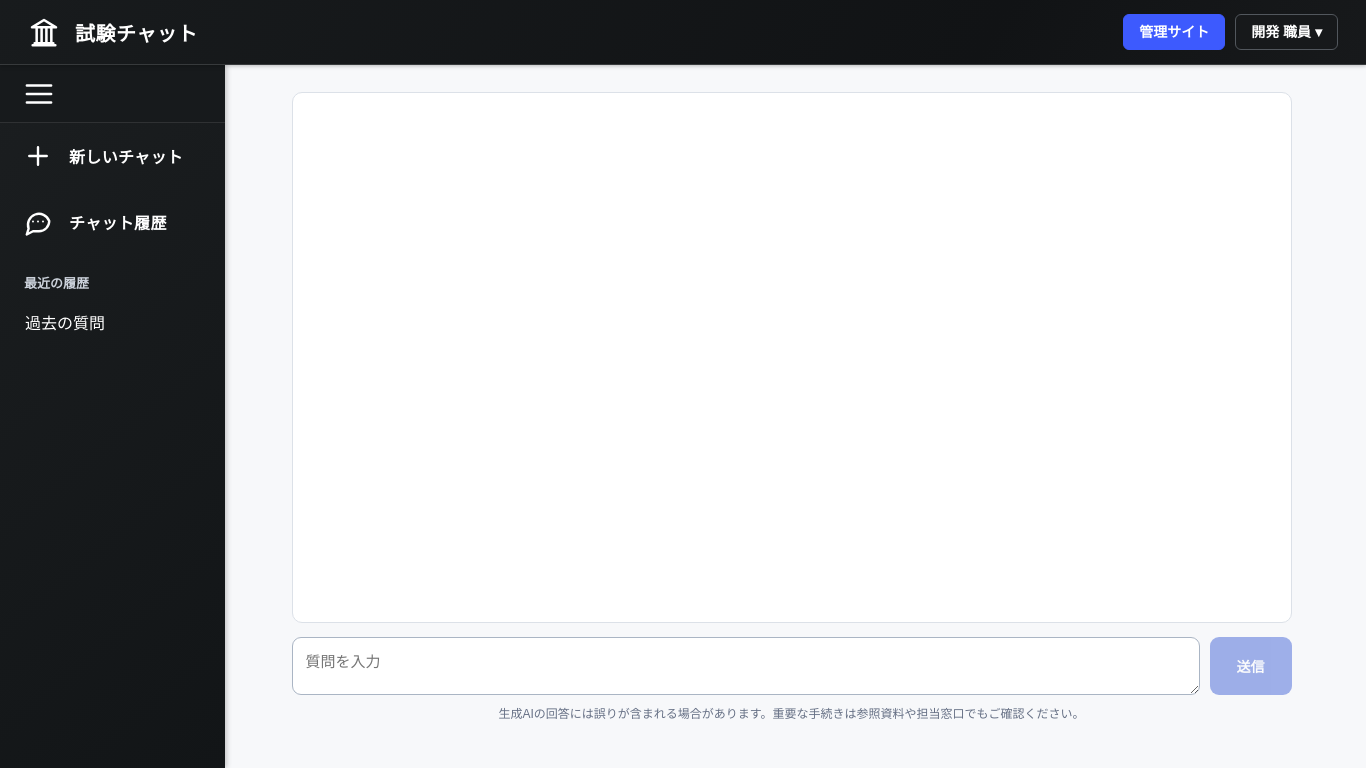
Test: CB-101 チャットUI › 左メニュー、履歴、日時を表示し、Good理由をポップアップからDB APIへ送る
The width and height of the screenshot is (1366, 768).
Check: the button named "サイドメニューを閉じる" is shown, box x1=0 y1=65 x2=225 y2=123
Check: the button "新しいチャット" is shown, box x1=0 y1=123 x2=225 y2=189
Type "申請期限は？" into the text box labelled "質問" at (746, 666), box x1=292 y1=637 x2=1200 y2=695
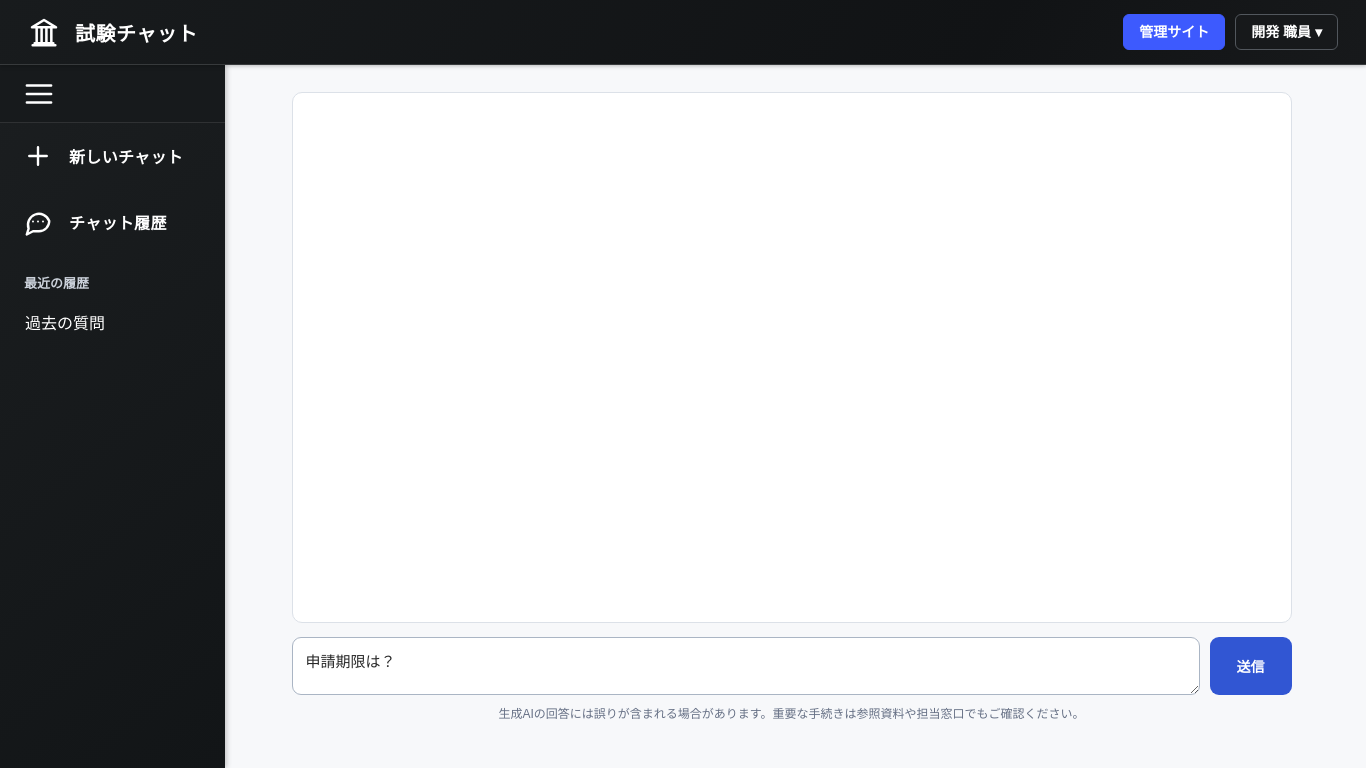
Click the button "送信" at (1250, 666), box x1=1210 y1=637 x2=1292 y2=695
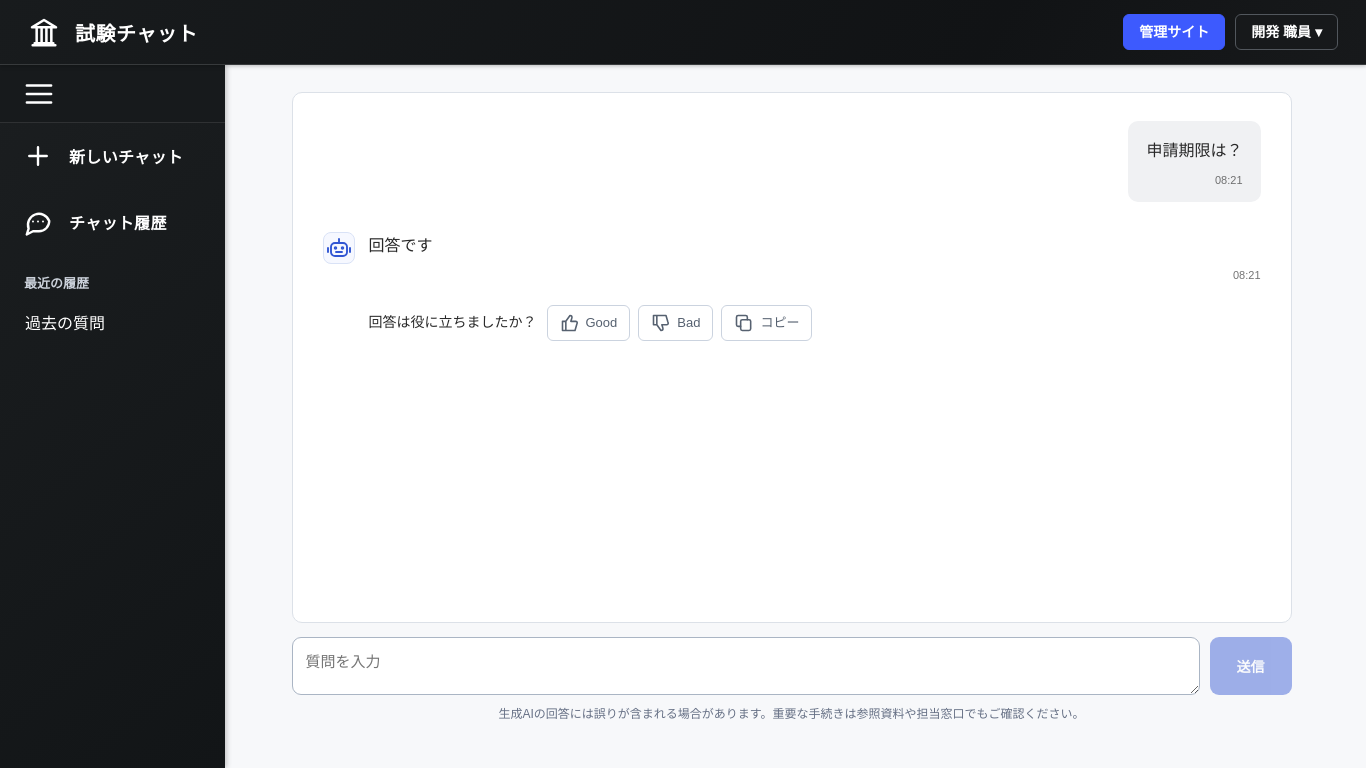
Check: the text "回答です" is shown, box x1=368 y1=237 x2=432 y2=254
Click the button "Good" at (588, 323), box x1=546 y1=305 x2=630 y2=341
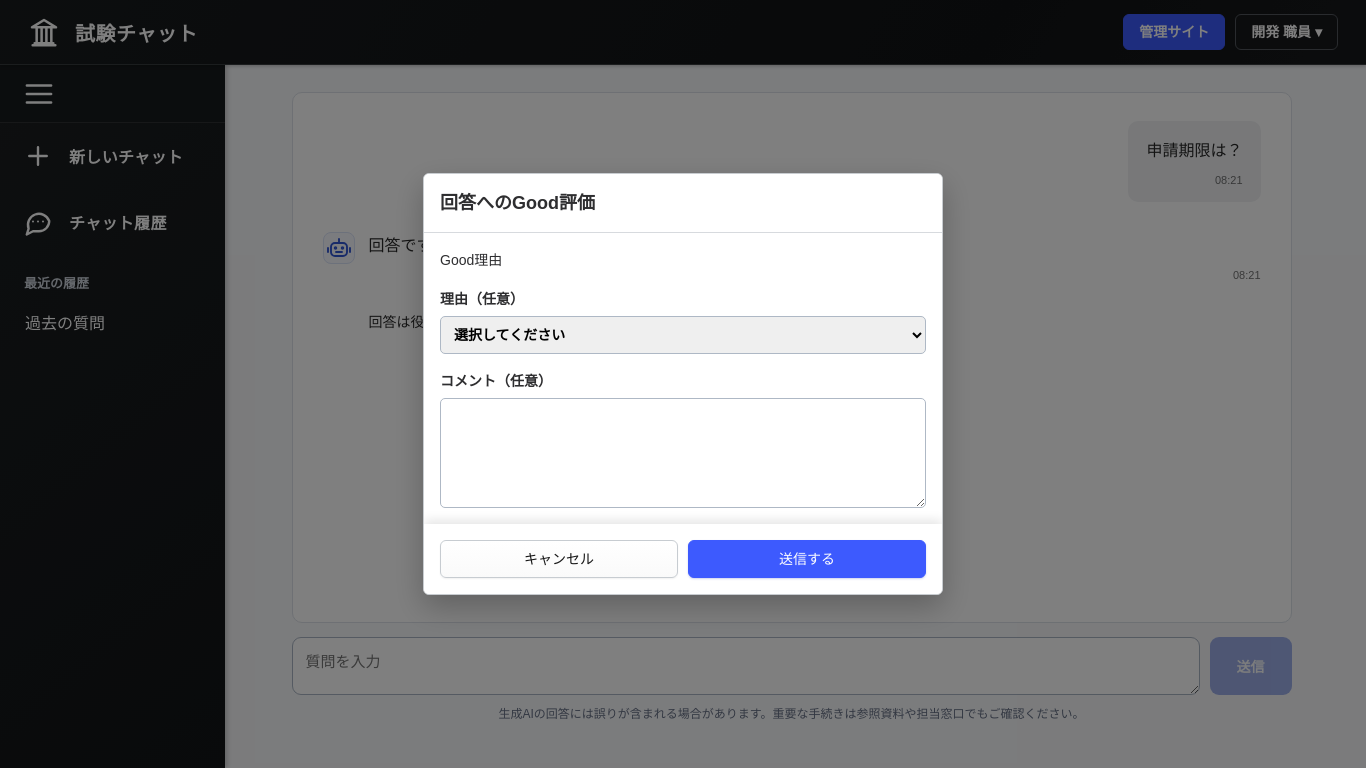
Check: the dialog "回答へのGood評価" is shown, box x1=423 y1=173 x2=943 y2=595
Select "分かりやすい" in the dropdown labelled "理由（任意）" at (683, 335), box x1=440 y1=316 x2=926 y2=354
Type "助かりました" into the text box labelled "コメント（任意）" at (683, 453), box x1=440 y1=398 x2=926 y2=508
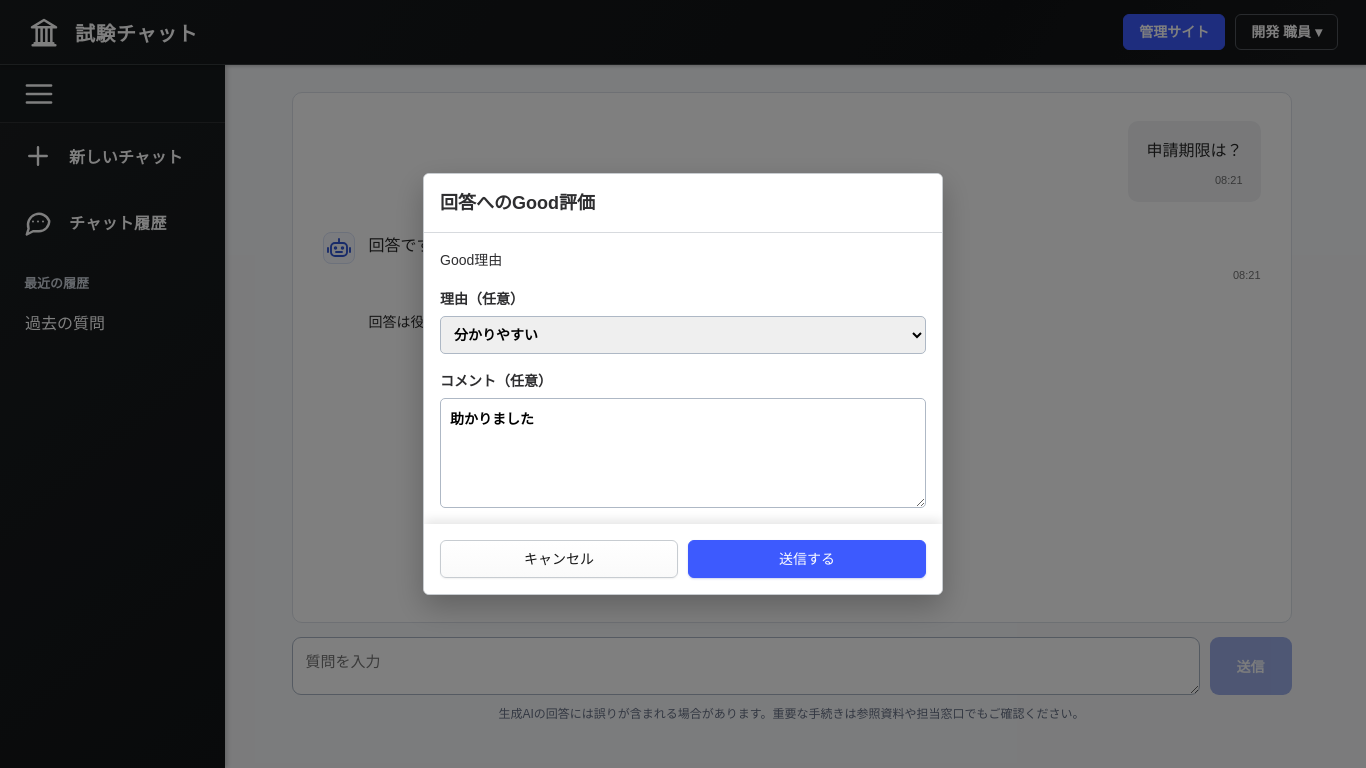
Click the button "送信する" at (807, 559), box x1=688 y1=540 x2=926 y2=578
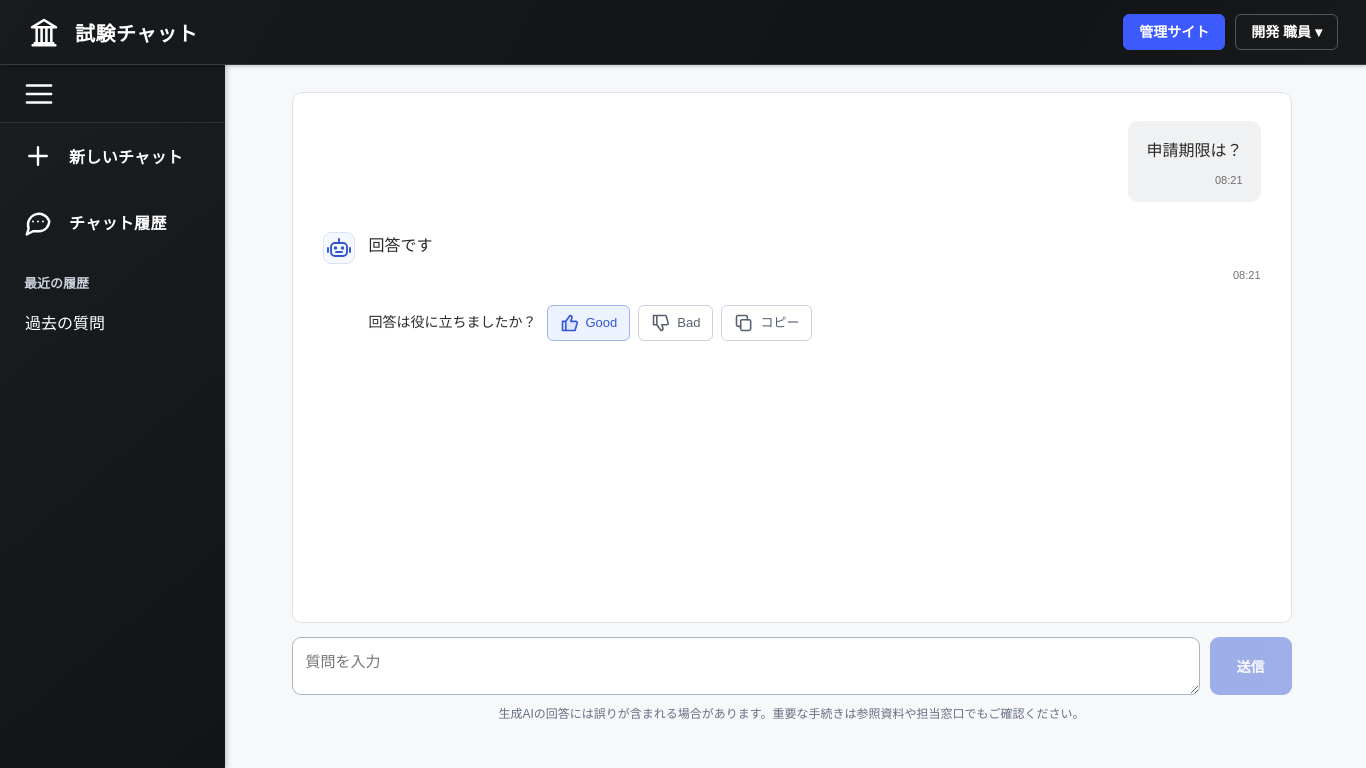
Check: the button "Good" is pressed, box x1=546 y1=305 x2=630 y2=341
Click the button with aria-label "回答をコピー" at (767, 323), box x1=722 y1=305 x2=812 y2=341
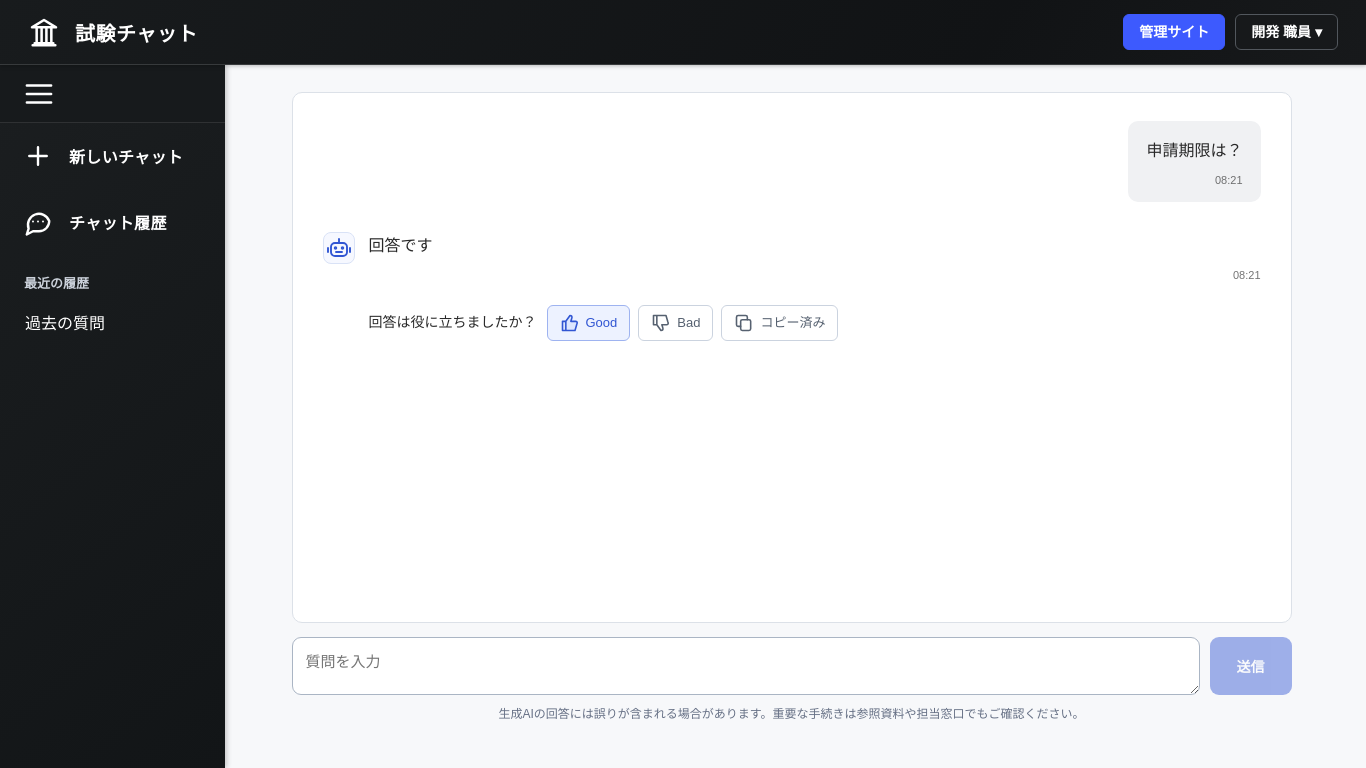
Check: the button "コピー済み" is shown, box x1=722 y1=305 x2=838 y2=341
